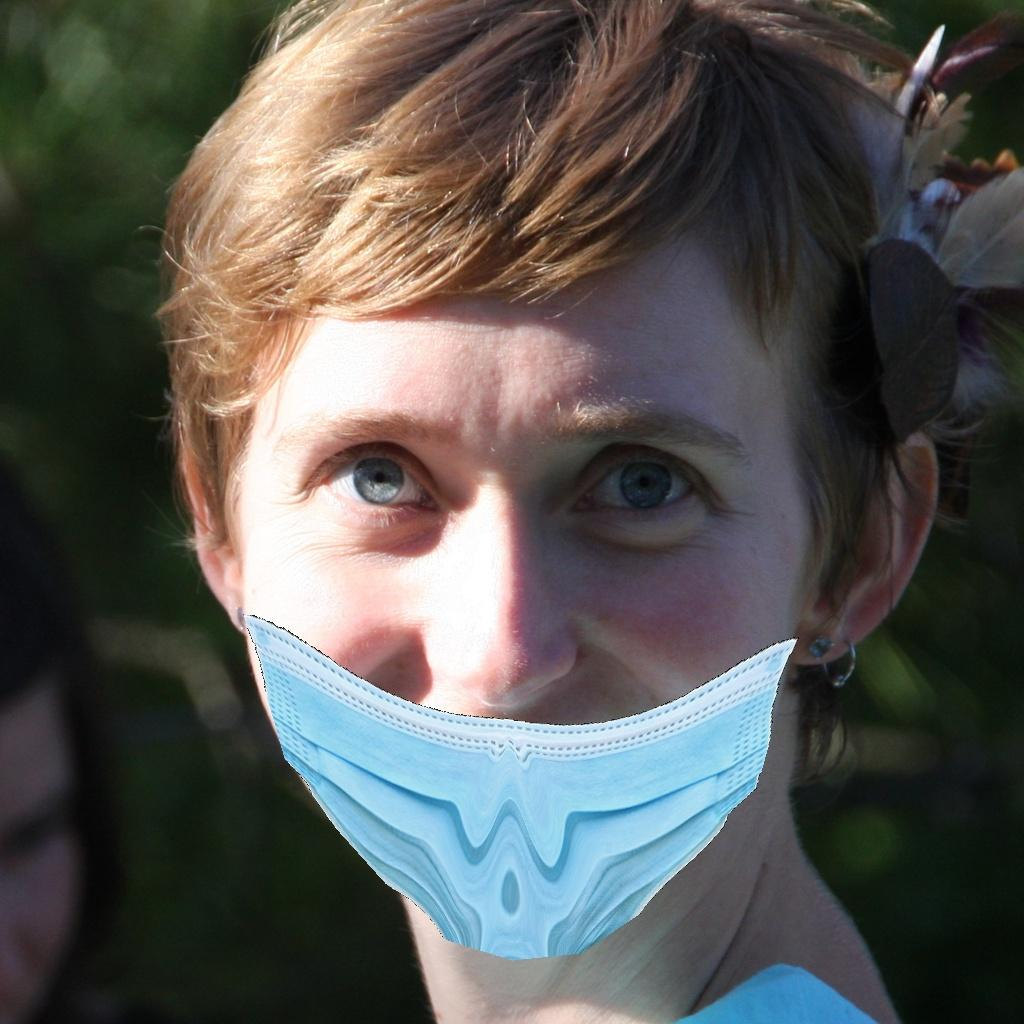Máscara Incorreta: (195, 238, 814, 927)
